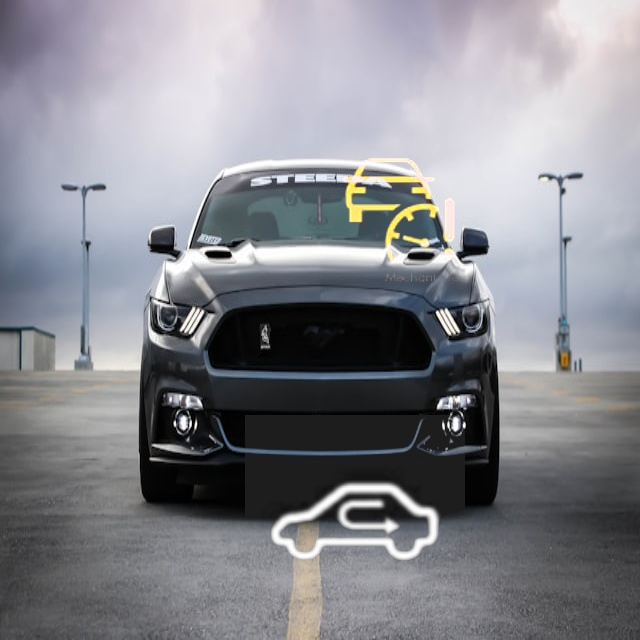symbol: (245, 415, 465, 635), (322, 135, 475, 288)
